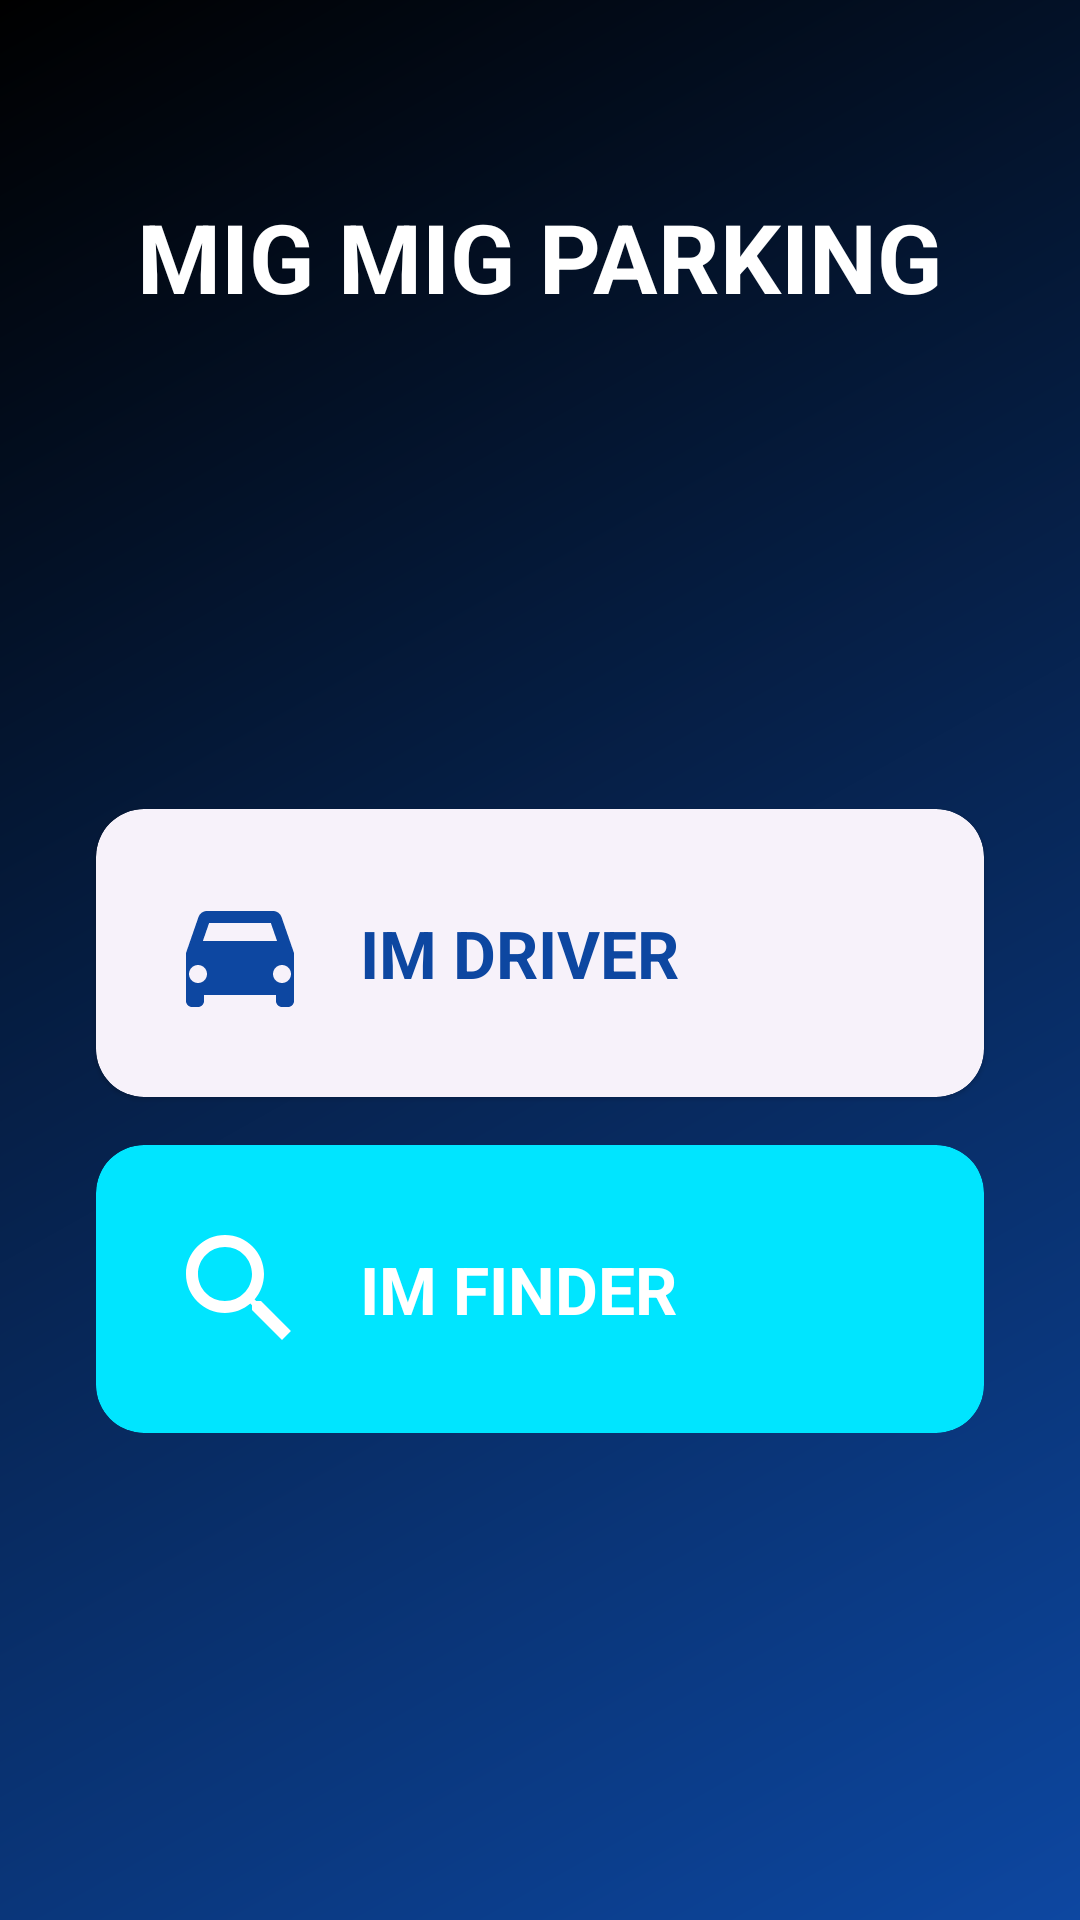

Named icons in this screenshot (1080px x 1920px) and their centers, (x,y):
driver role: (240,959)
finder role: (238,1287)
